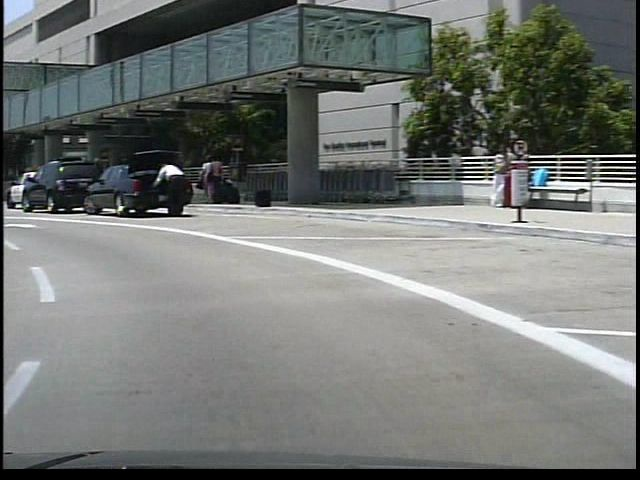person: (147, 162, 186, 223), (204, 154, 222, 209), (193, 156, 211, 208)
